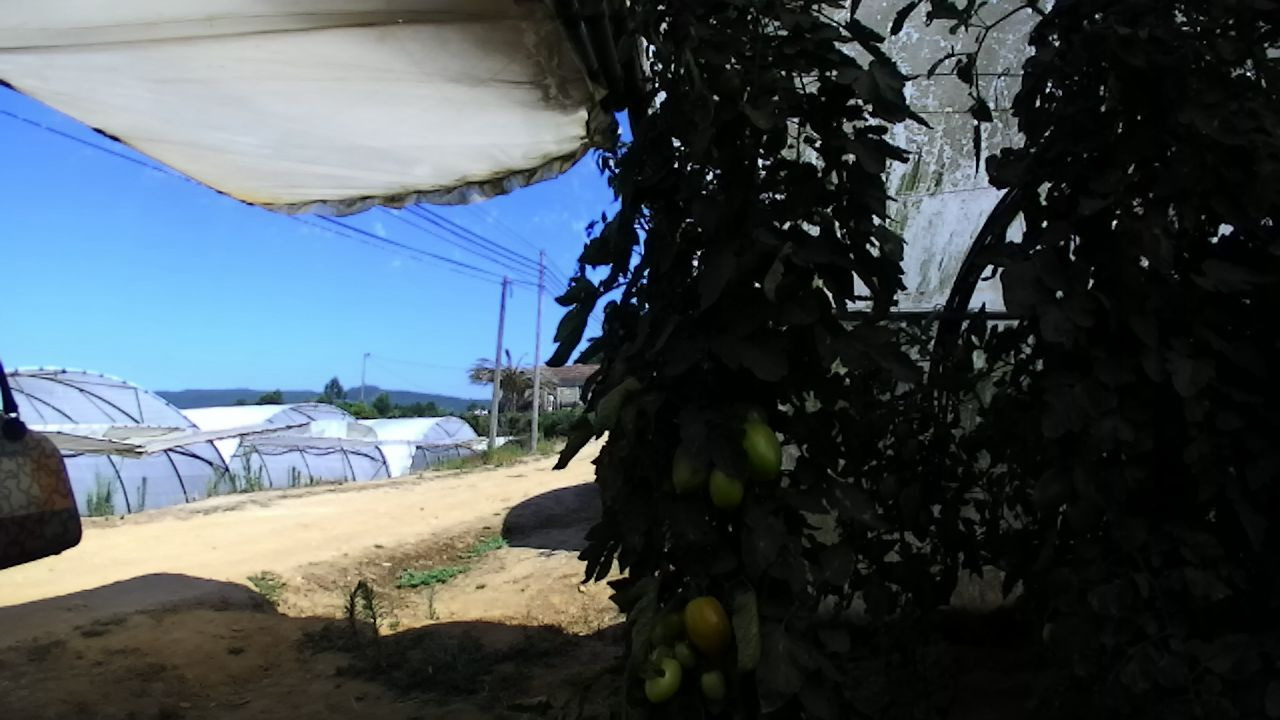tomato: (683, 595, 735, 660), (739, 414, 784, 477), (666, 441, 715, 498), (639, 646, 684, 707), (705, 461, 745, 513), (697, 667, 727, 702)
